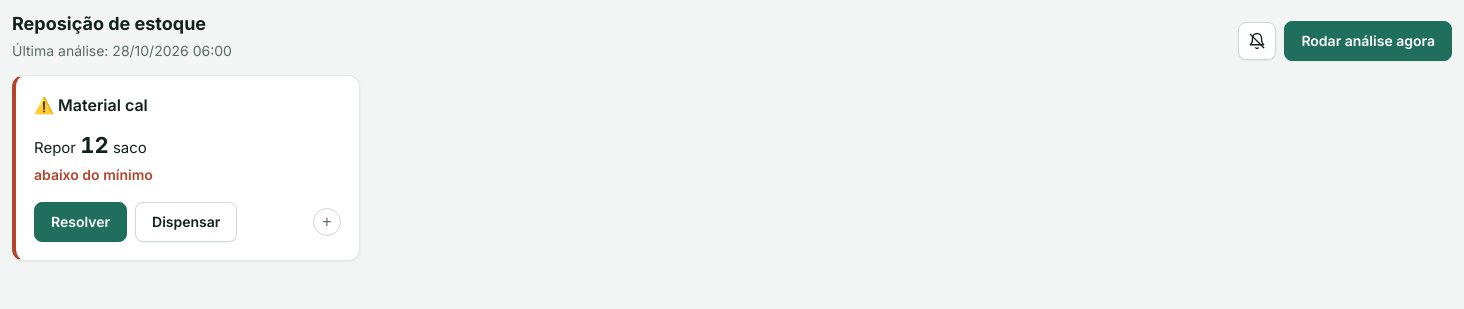
Test: AlertasEstoque › a justificativa começa recolhida e o "+" abre e fecha o detalhe
The width and height of the screenshot is (1464, 309).
Check: the text "Justificativa cal" is not shown
Click the button named "Ver detalhes" at [327, 222], box [313, 208, 341, 236]
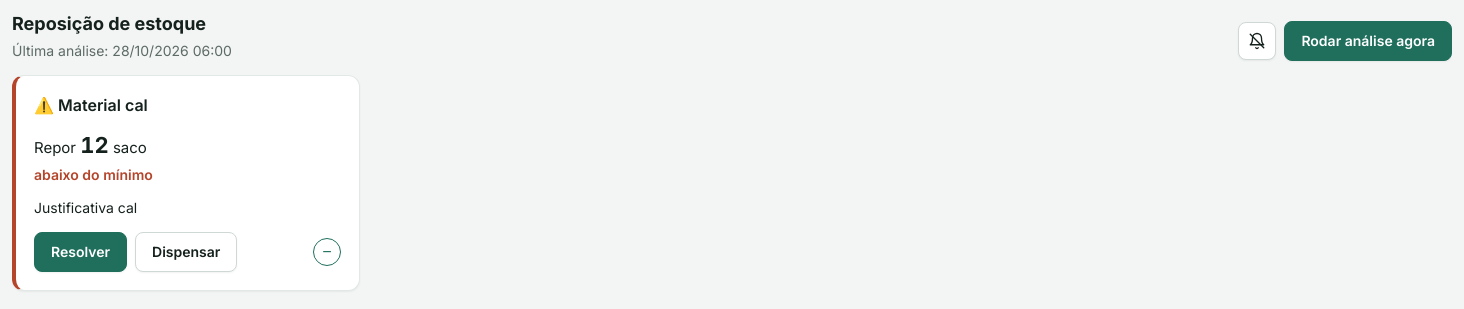
Check: the text "Justificativa cal" is shown, box [34, 199, 137, 216]
Check: the button named "Ocultar detalhes" is expanded
Click the button named "Ocultar detalhes" at [327, 252], box [313, 238, 341, 266]
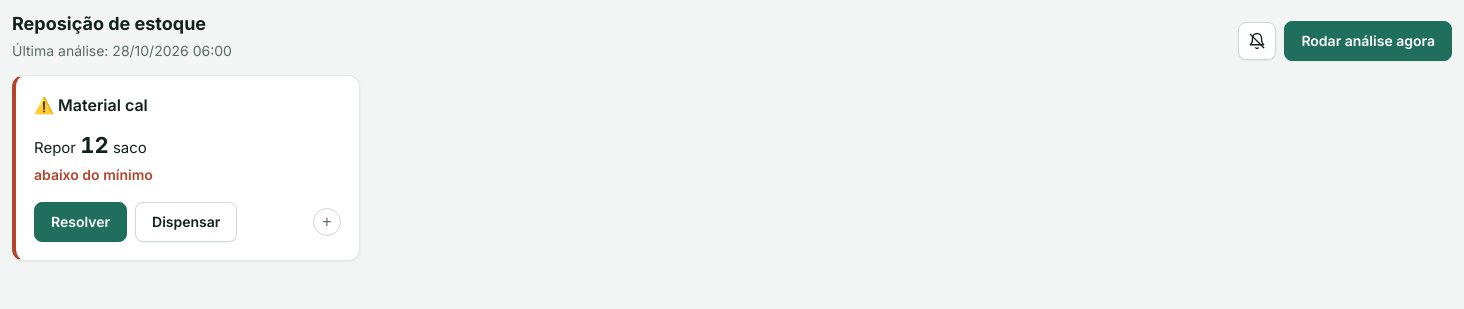
Check: the text "Justificativa cal" is gone
